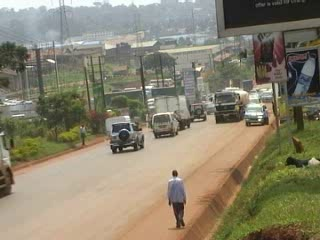Car: (108, 120, 146, 155), (187, 101, 208, 122), (204, 99, 216, 115)
